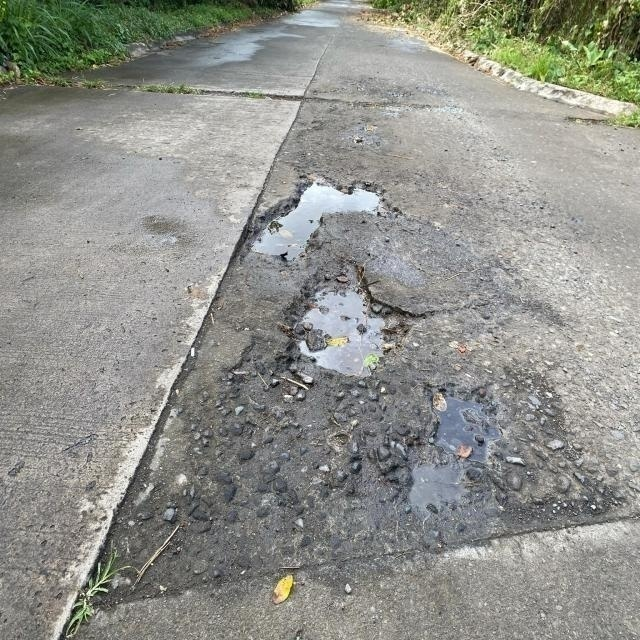pothole: (366, 372, 546, 553), (260, 258, 423, 430), (230, 136, 409, 270)
